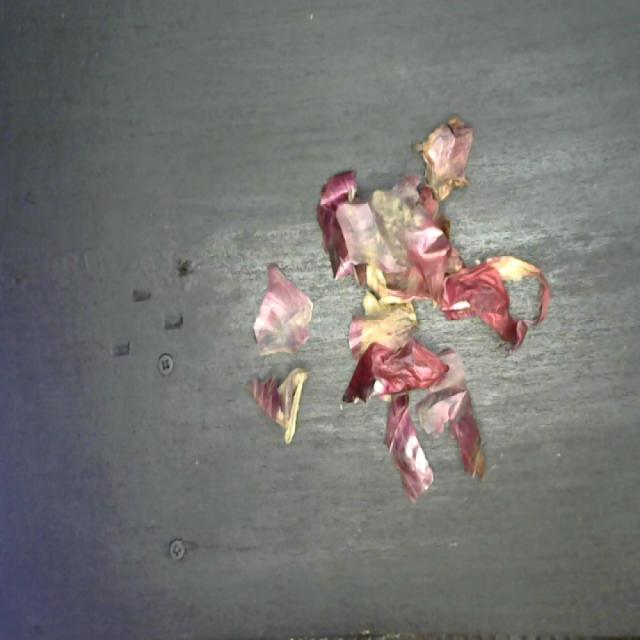biodegradable: (244, 109, 552, 512)
